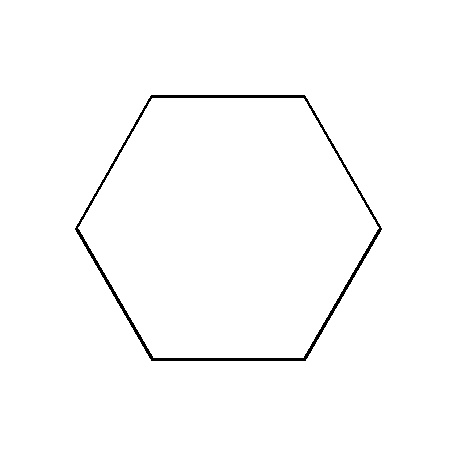line_segment: (75, 94, 382, 362)
